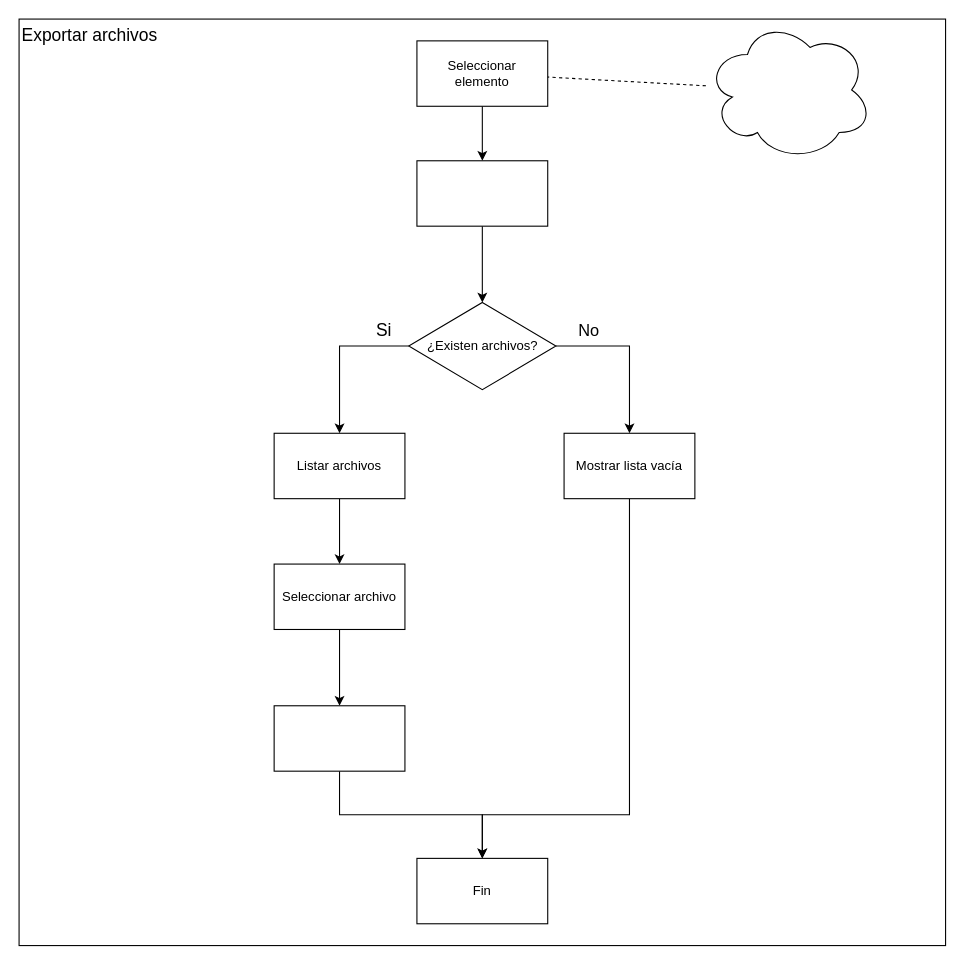
Some shapes in this 965 by 965 pixel diagram are drawn without their labels. Each missing label, with the centre of its shape:
"Exportar archivo" goes at point (339, 738).
"Ingresa a exportar archivos" goes at point (482, 193).
"Los elementos que se pueden seleccionar son: graficos, informes y resumenes." goes at point (789, 89).
